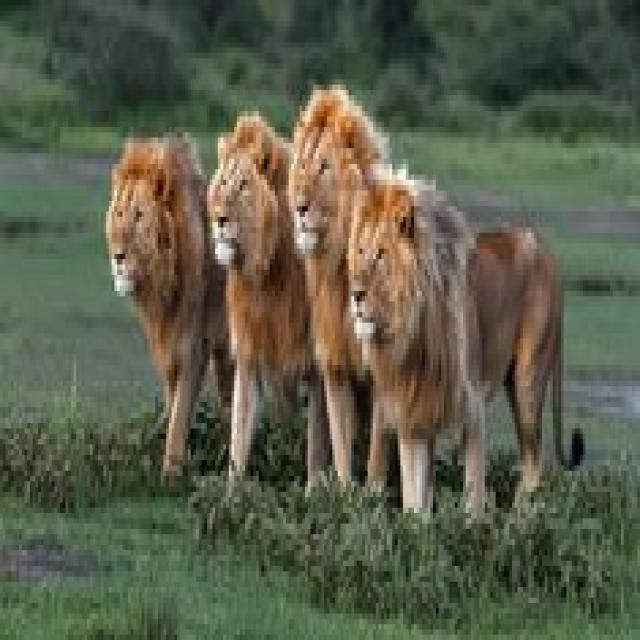lions: (82, 61, 640, 532)
